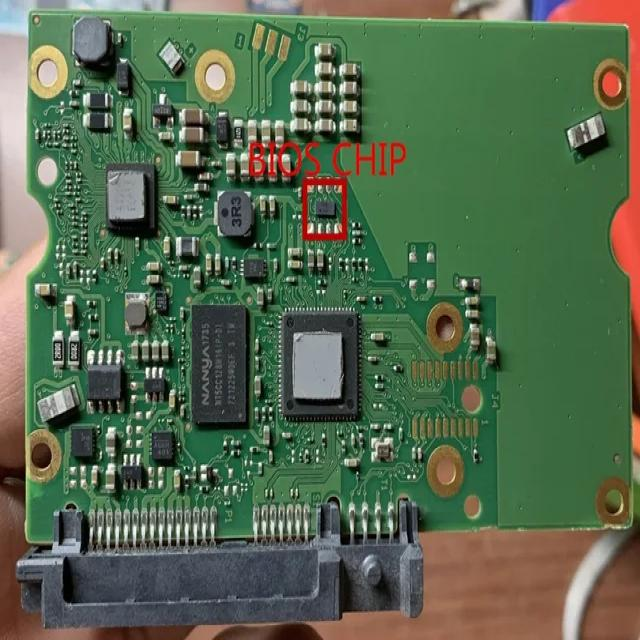pcb: (17, 7, 634, 626)
